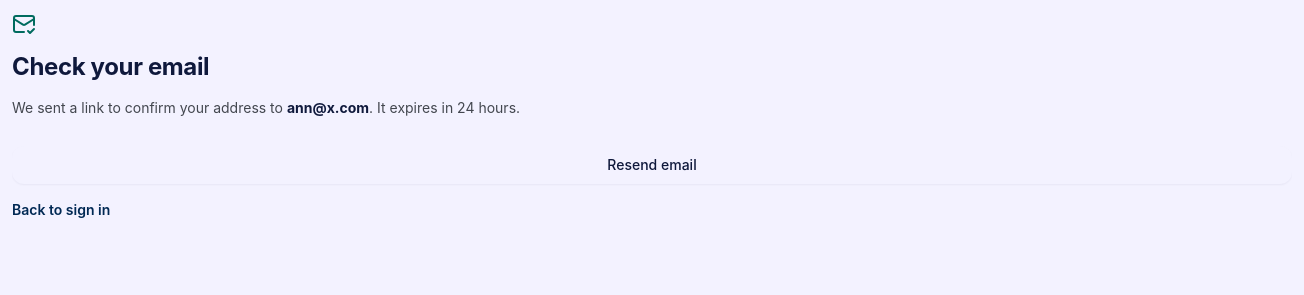
Test: VerifyView (ACT-07) › asks to check the email, with the stored address and a resend button, and never shows the address from the URL
The image size is (1304, 295).
Expected: the heading "Check your email" is shown, x1=12 y1=52 x2=209 y2=81
Expected: the text "ann@x.com" is shown, x1=287 y1=99 x2=369 y2=116
Click the button "Resend email": (652,165) x1=12 y1=146 x2=1292 y2=184
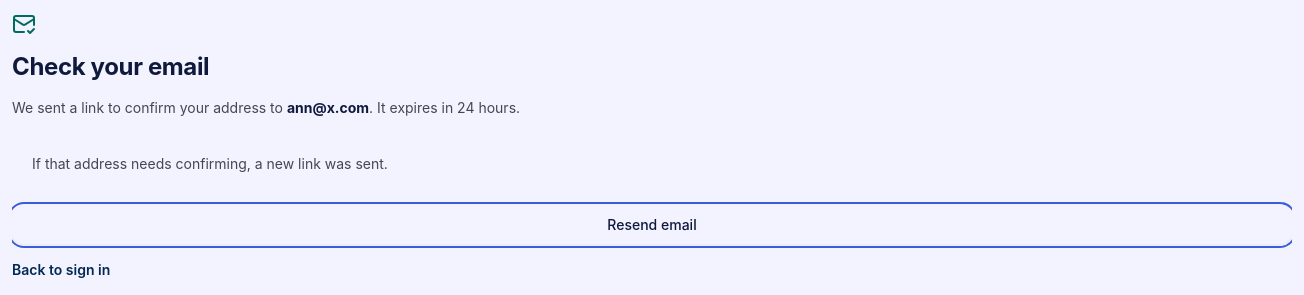
Now the text "If that address needs confirming, a new link was sent." is shown, box x1=12 y1=134 x2=1292 y2=194
